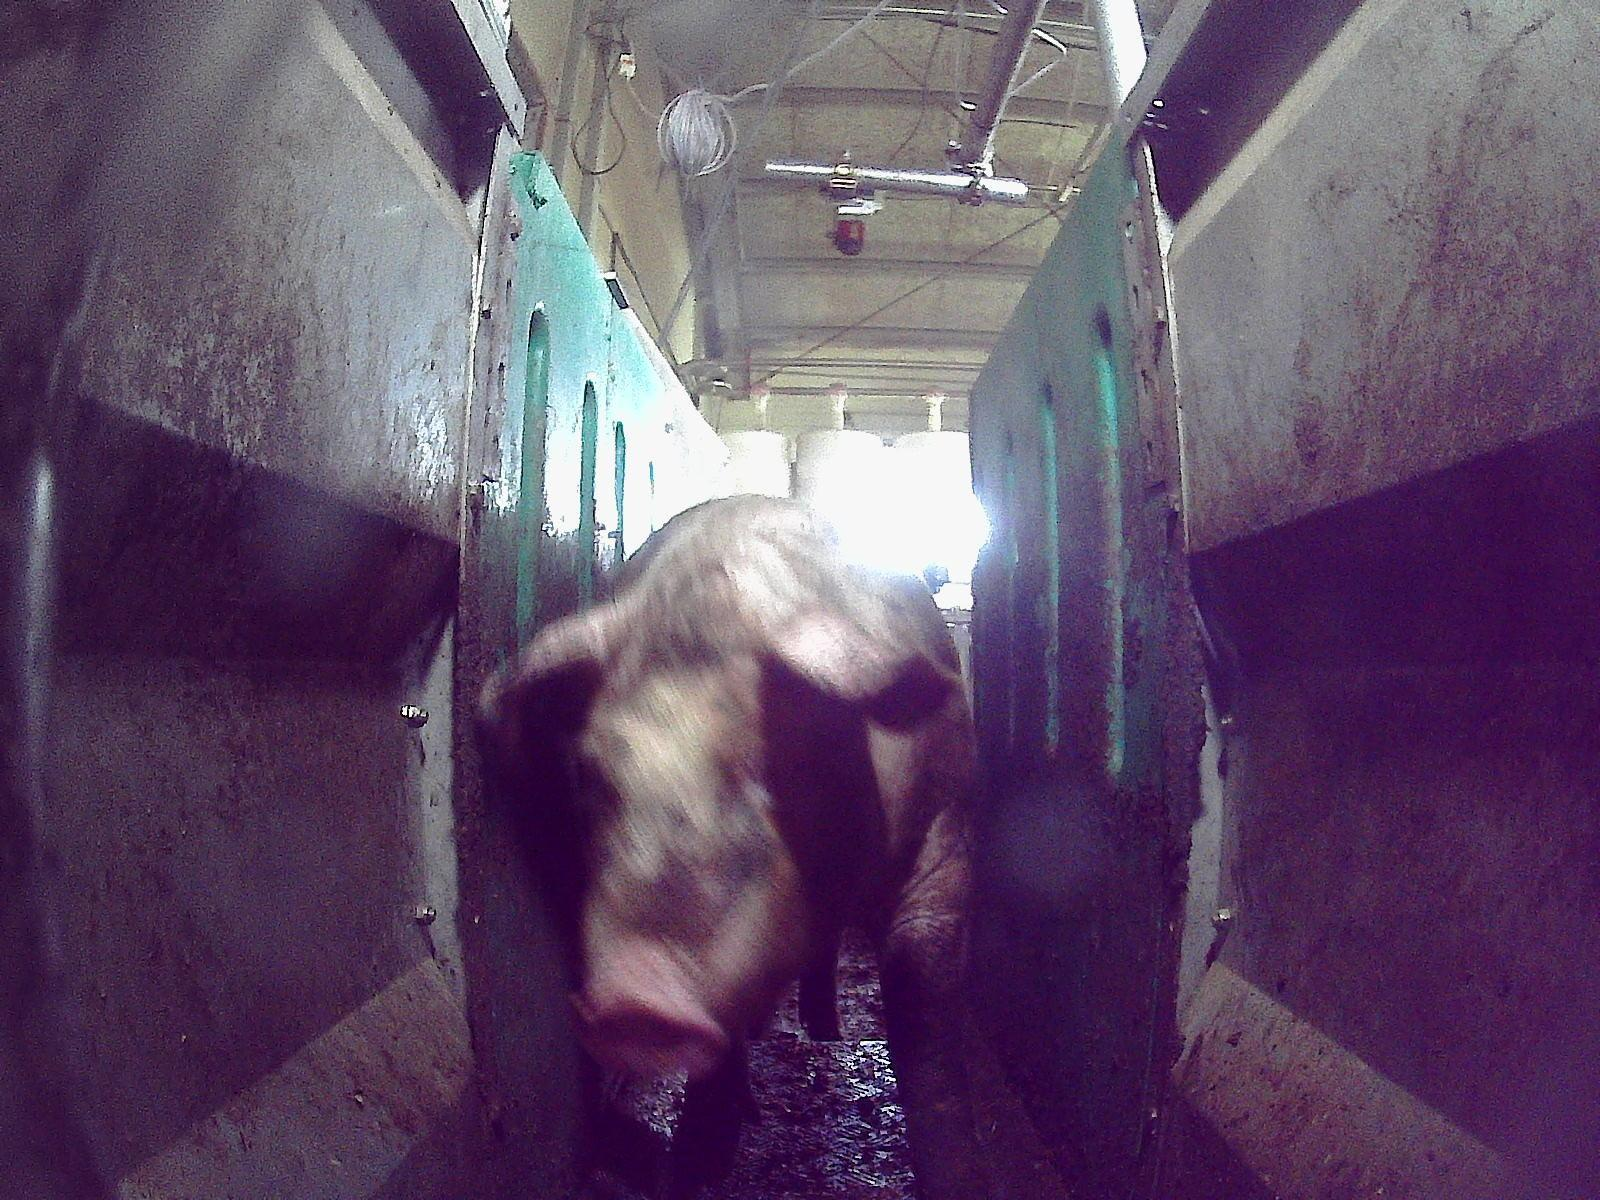Face: (571, 620, 874, 1072)
